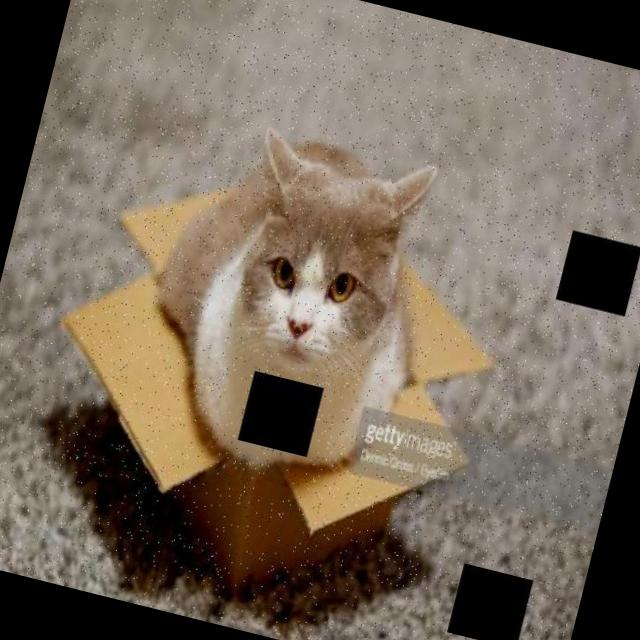box: (11, 169, 522, 640)
